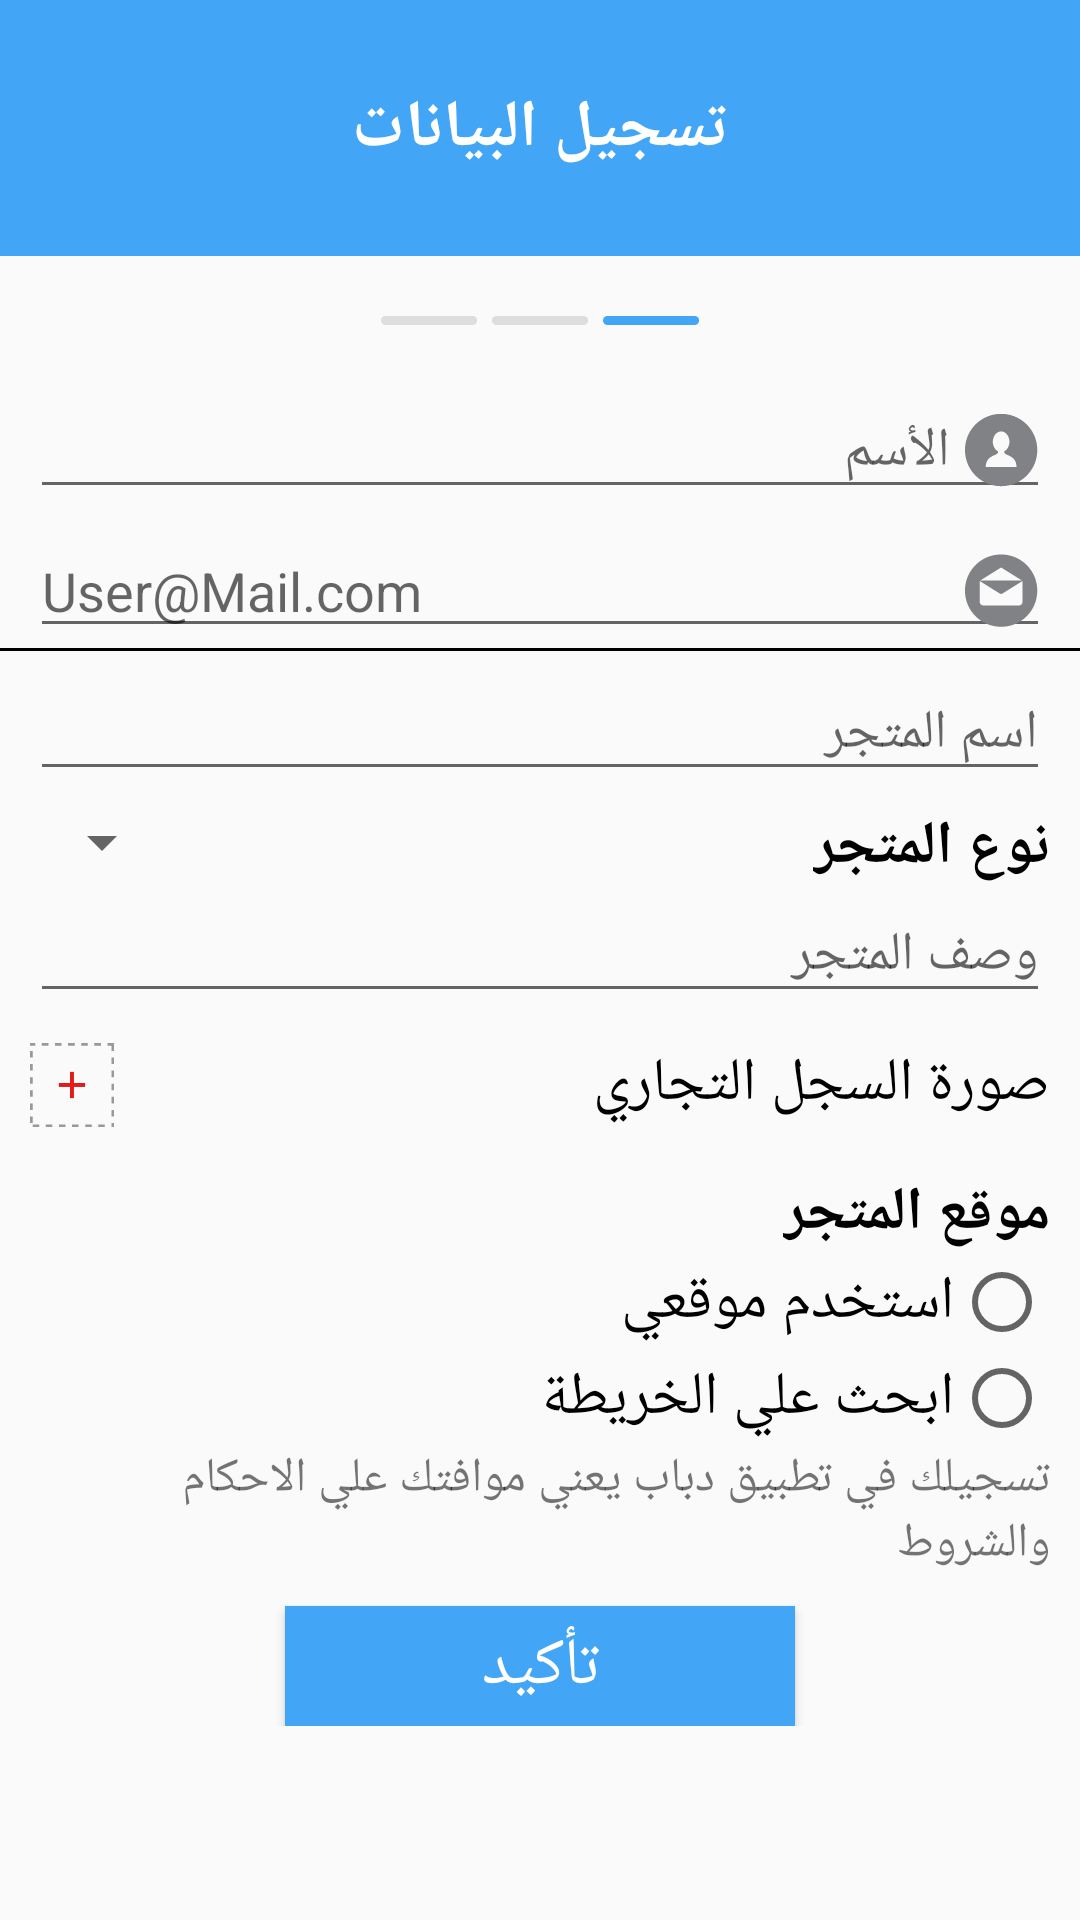

Icons on this 1080px x 1920px Android screen, each with the point to tap as point (x, y):
addimgmarket: point (72, 1085)
